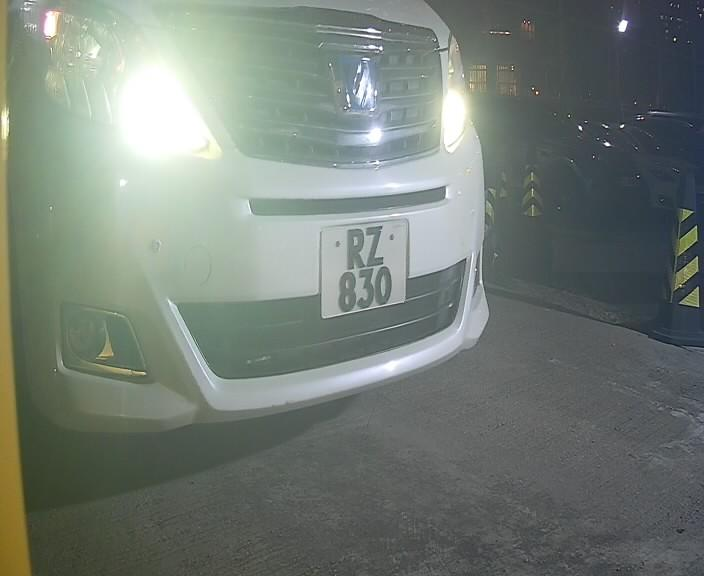Car: (1, 3, 563, 471)
License Plate: (309, 204, 422, 330)
